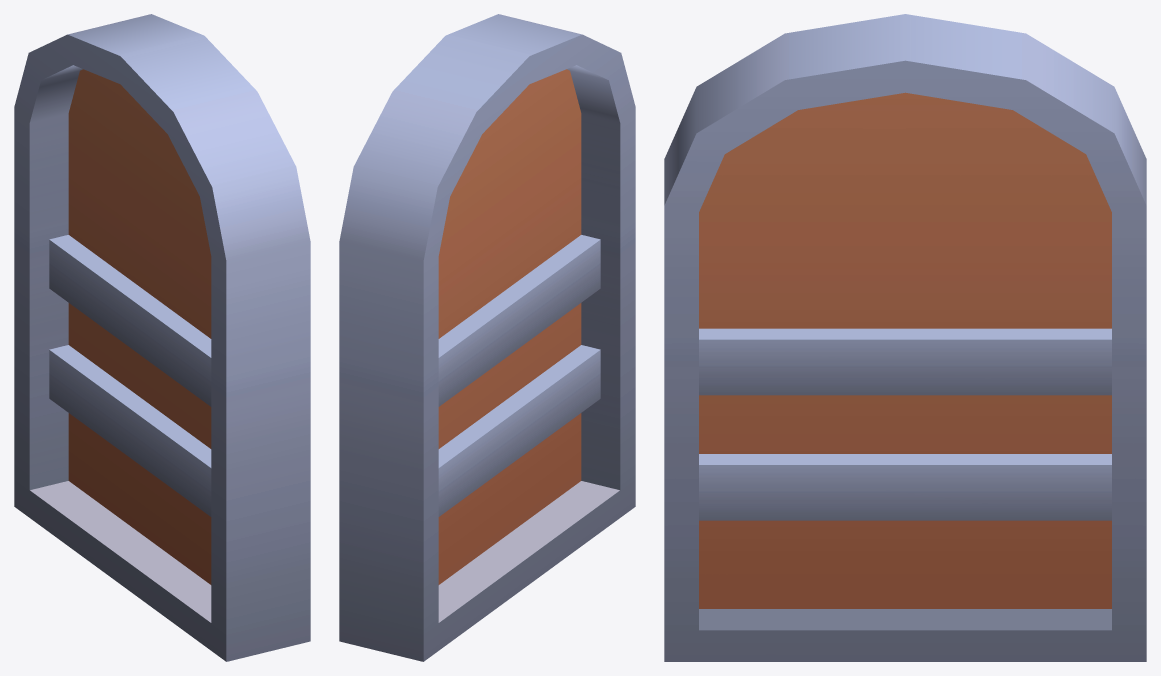
File: gate.glb
3 views of the same model, side by side, from view 1: azimuth 30°, elevation 25°; view 2: azimuth 150°, elevation 25°; view 3: azimuth 270°, elevation 25° (orthographic). The views are drawn at different scales.
Visible parts, largest first — view 1: gate; view 2: gate; view 3: gate.
Part boxes in pixels (<box>): gate: <box>14,14,310,661</box>; gate: <box>339,14,635,661</box>; gate: <box>664,14,1146,661</box>.
Bounding box in the file's own units: 0.1516 × 0.9103 × 0.6622.
1 material, 1 textured.
